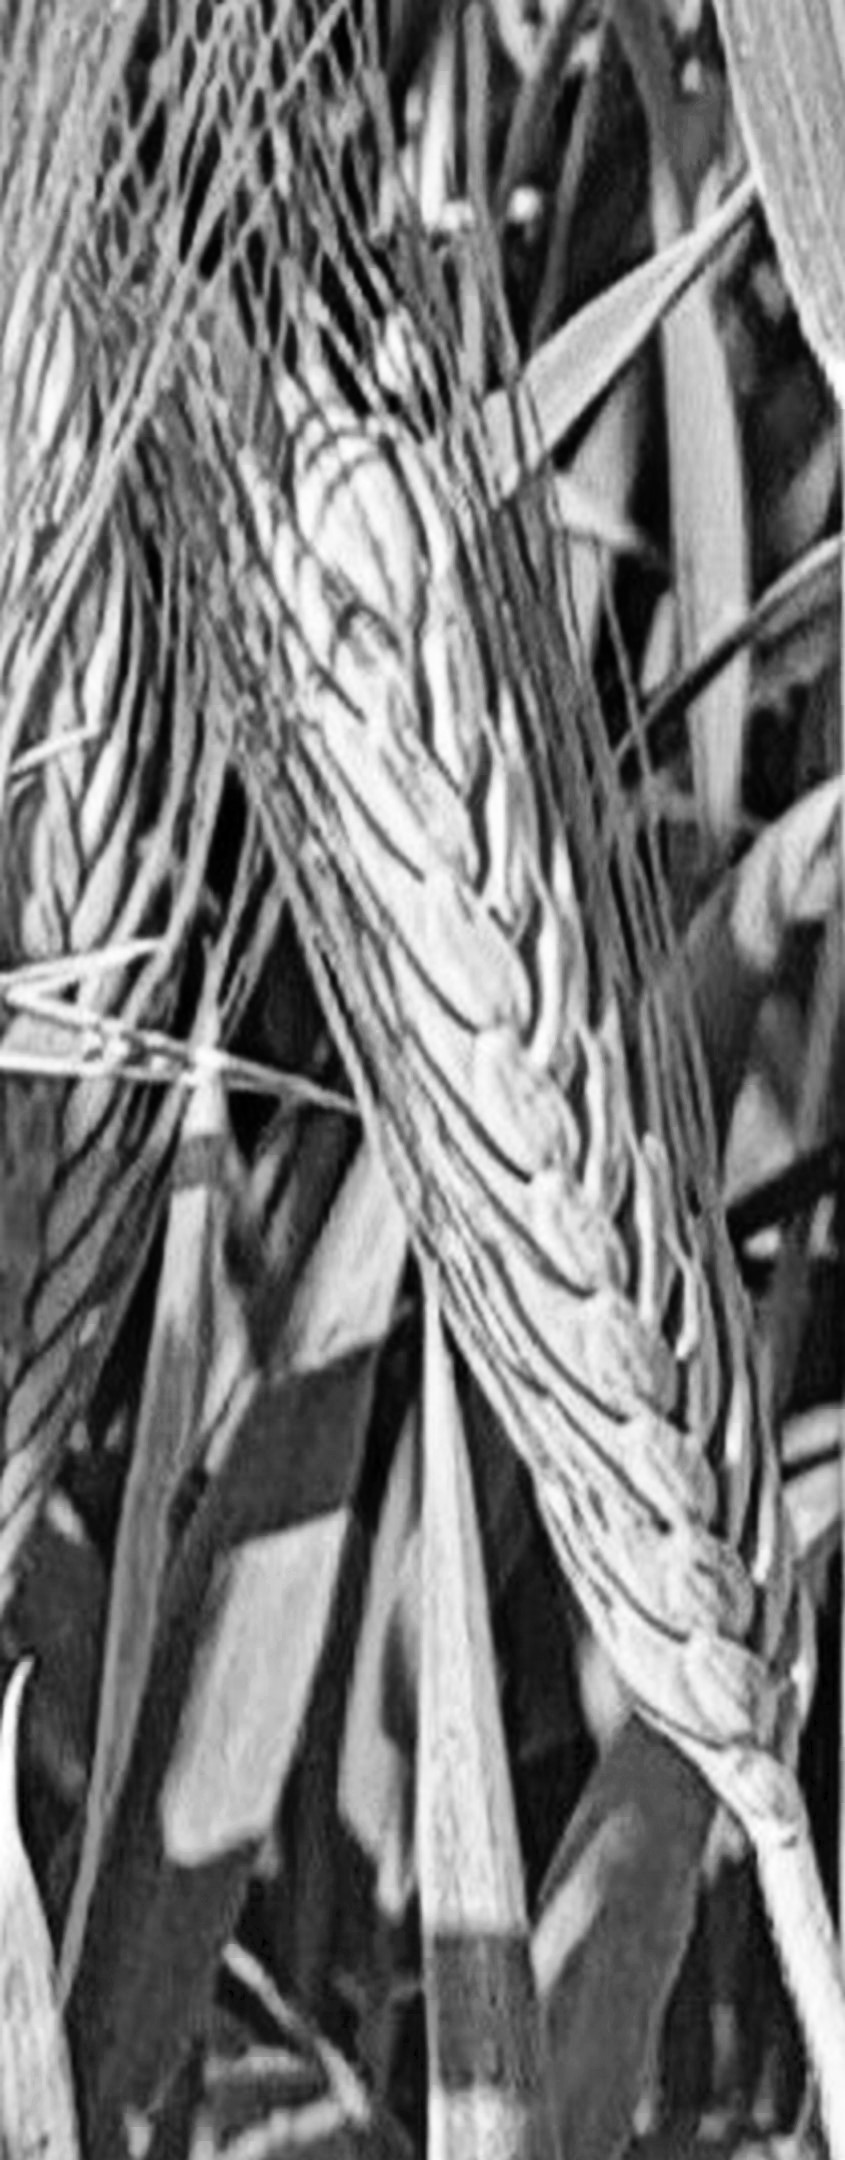Healthy Wheat: (214, 360, 845, 1791)
